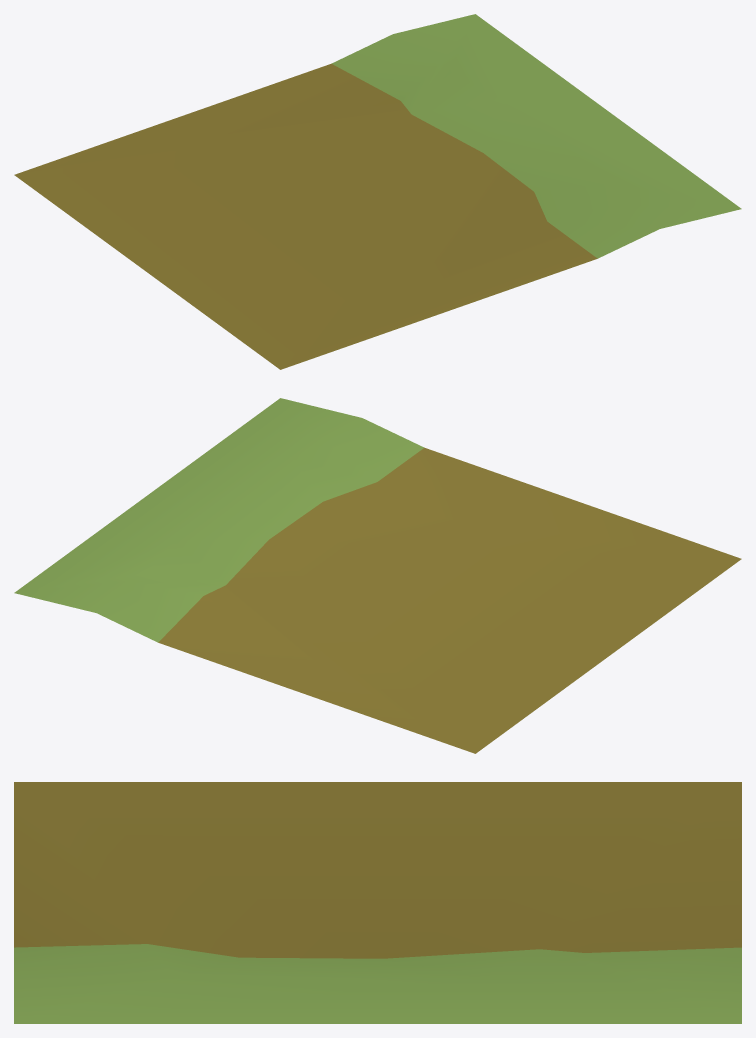
File: Water_Edge.glb
3 renders of one model, top to bottom at view 1: azimuth 30°, elevation 25°; view 2: azimuth 150°, elevation 25°; view 3: azimuth 270°, elevation 25°, orthographic. The views are drawn at different scales.
Parts seen in each view (by area): view 1: 2_Water_Edge-col; view 2: 2_Water_Edge-col; view 3: 2_Water_Edge-col.
Part boxes in pixels (x1,y1,x2,y2): 2_Water_Edge-col: (14, 14, 741, 369); 2_Water_Edge-col: (14, 398, 741, 753); 2_Water_Edge-col: (14, 782, 741, 1023).
Size of the model in its own units: 1 by 0.1 by 1.
